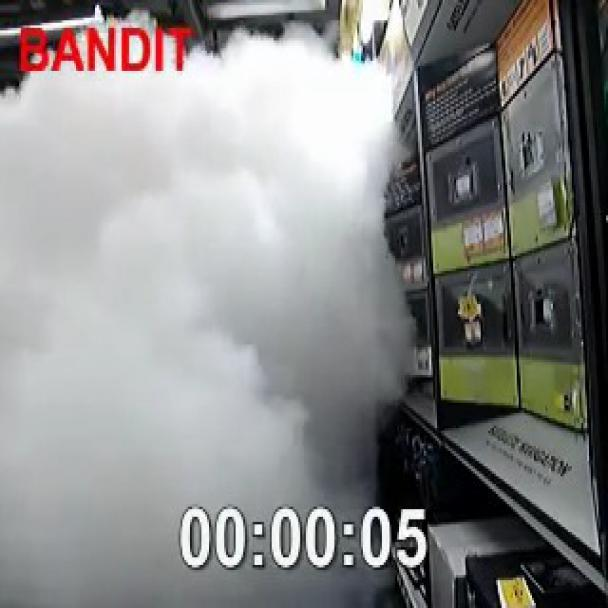smoke: (0, 27, 447, 563)
